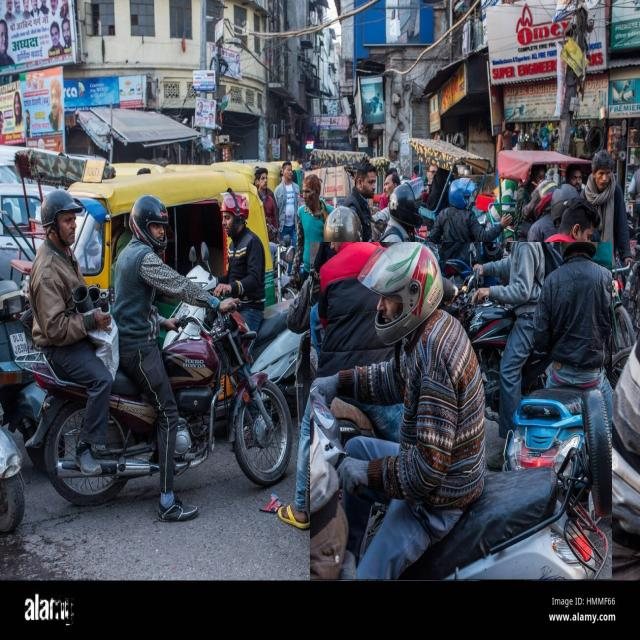autorickshaw: (69, 166, 276, 303)
motorcycle: (310, 243, 612, 580), (18, 190, 291, 521), (279, 207, 416, 529)
